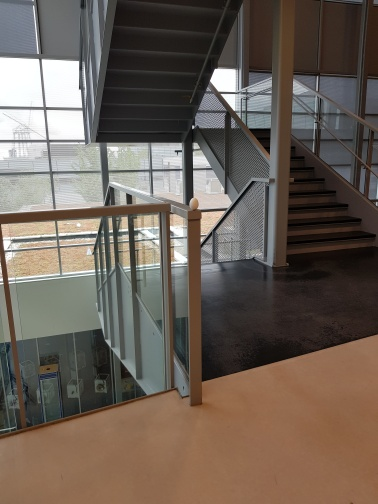egg: (187, 196, 203, 212)
